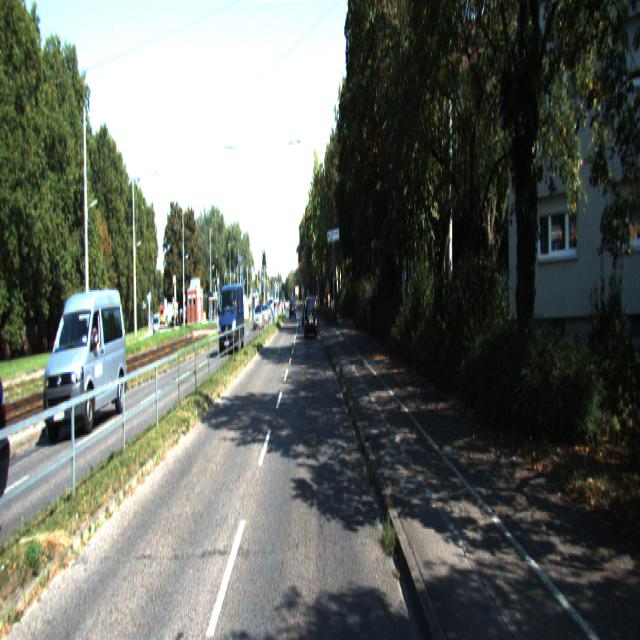Car: (44, 286, 128, 436), (218, 284, 244, 358), (305, 296, 318, 341)
